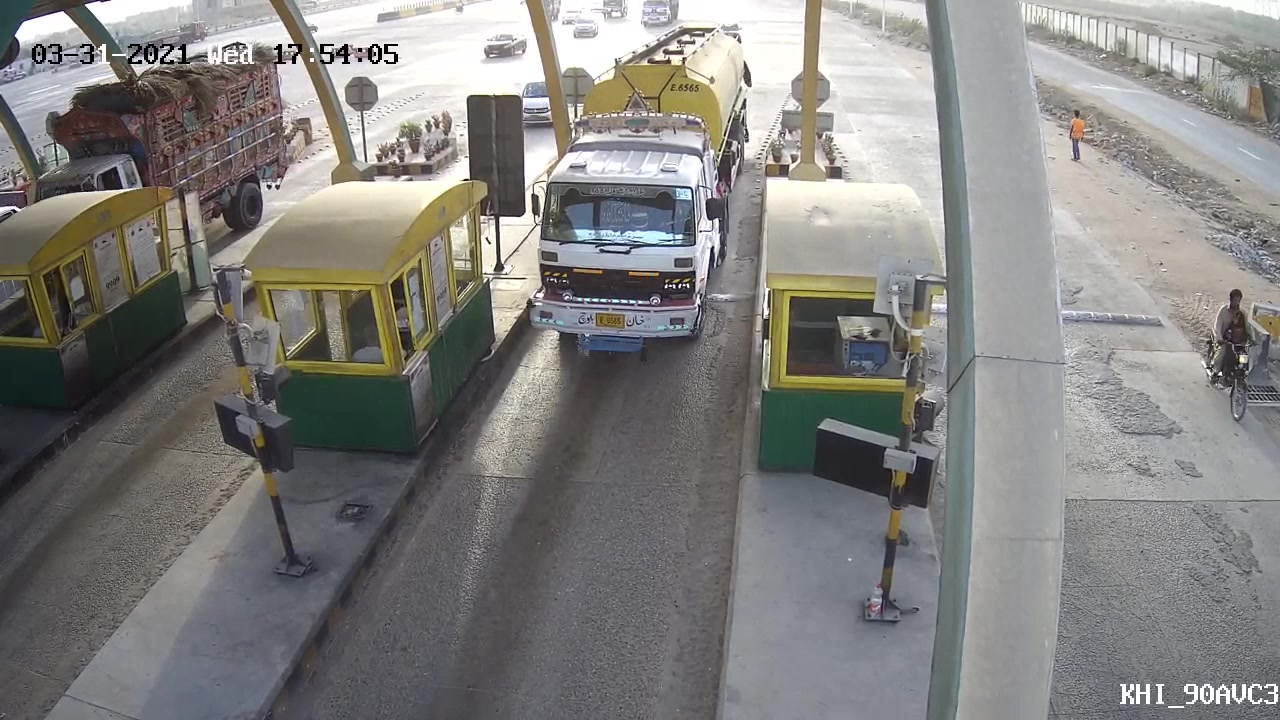F6: (505, 88, 747, 364)
